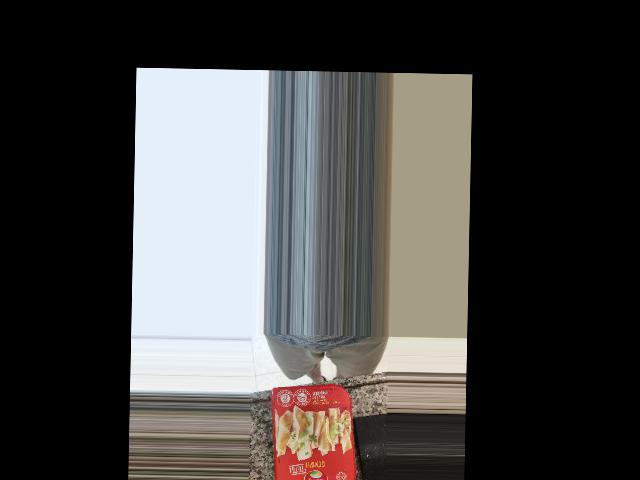cheese: (279, 362, 369, 473)
